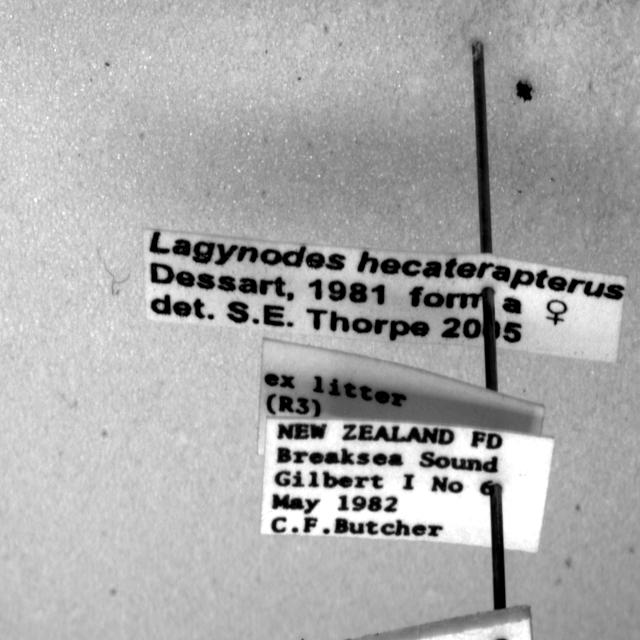typed_label: (144, 231, 626, 362), (261, 418, 554, 553), (258, 339, 545, 454)
